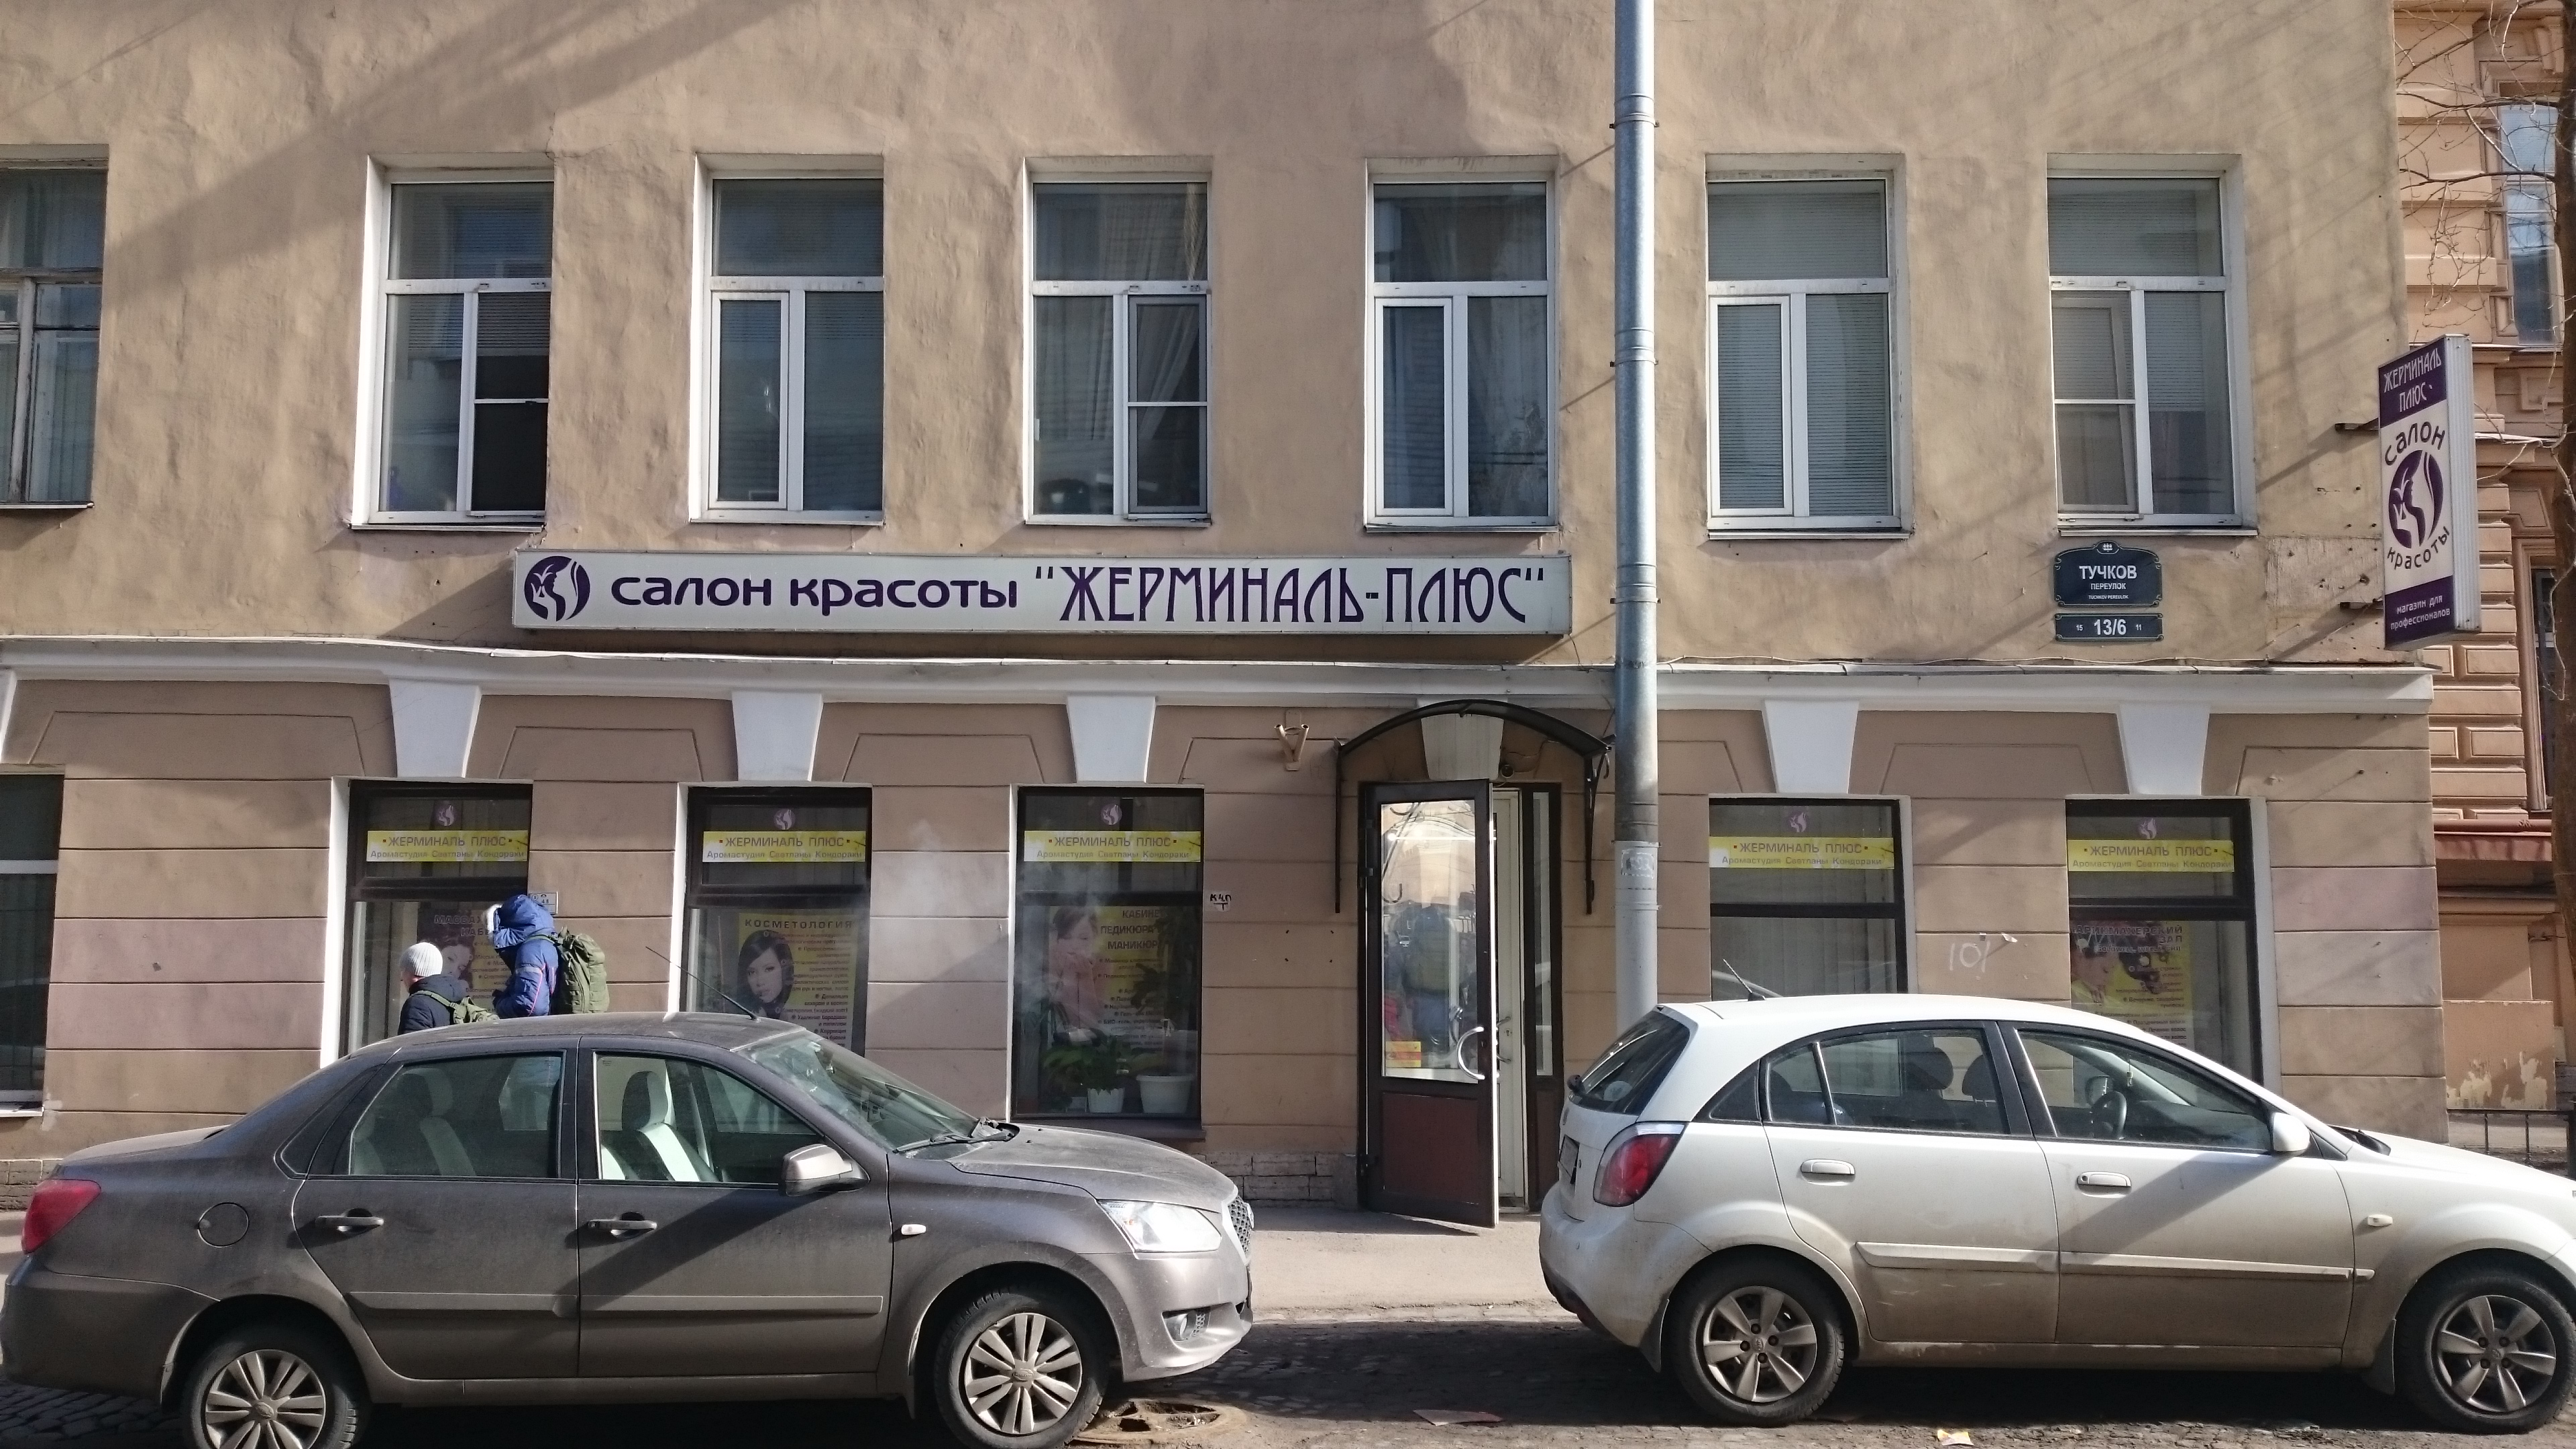cantilever: (2319, 333, 2482, 640)
door: (1359, 786, 1559, 1219)
signboard: (511, 550, 1575, 632)
window: (1698, 170, 1902, 533), (1371, 177, 1555, 534), (702, 165, 881, 520), (1030, 175, 1212, 524), (1010, 786, 1198, 1116), (380, 159, 541, 520), (2061, 172, 2219, 533), (2065, 807, 2256, 1062), (688, 794, 860, 1014), (1702, 798, 1900, 982), (356, 789, 515, 890)
